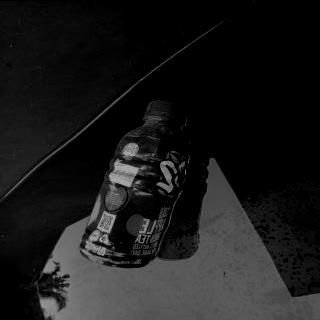bottle: (78, 99, 190, 268)
